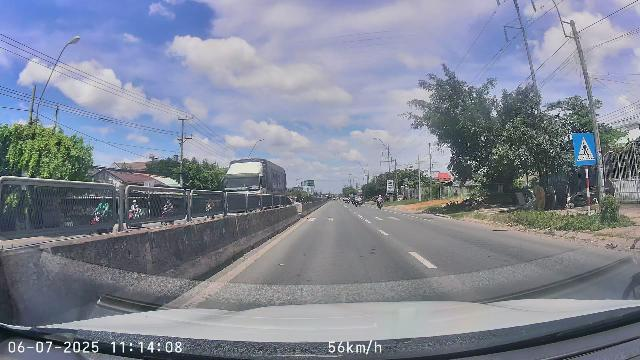423a-duong-nguoi-di-bo-sang-ngang-1: (573, 133, 596, 165)
